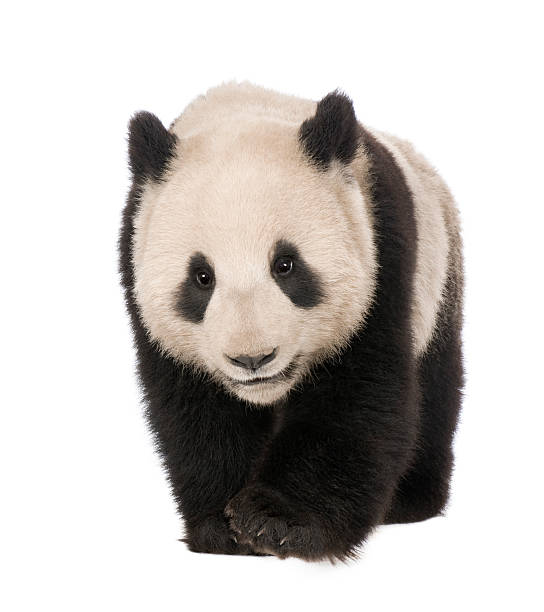panda: (81, 89, 401, 415)
